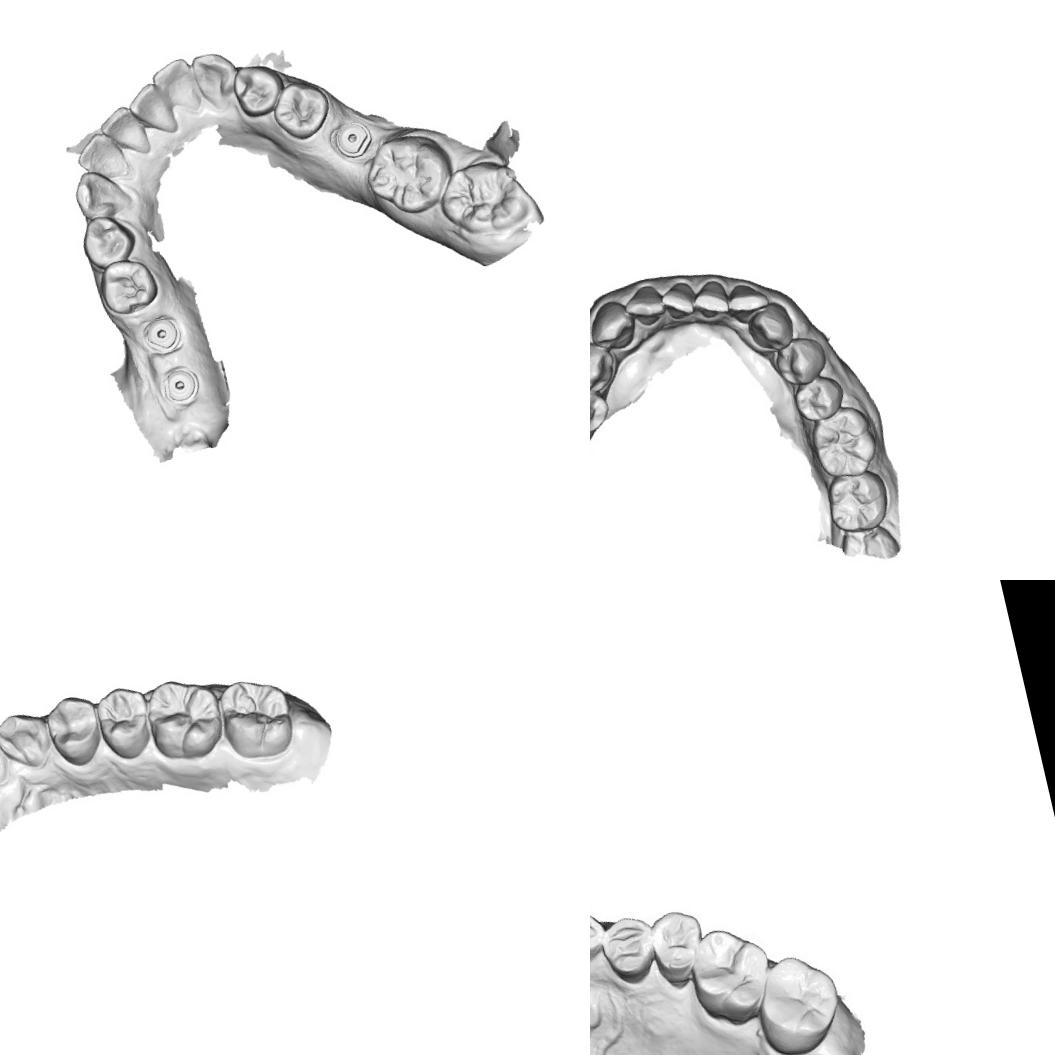canine: (68, 162, 137, 226), (0, 706, 57, 777), (188, 47, 244, 118), (743, 298, 798, 356), (590, 296, 640, 355), (590, 899, 611, 975)
implant: (157, 361, 205, 410), (329, 116, 377, 163), (139, 310, 186, 353)
incisor: (122, 78, 182, 145), (92, 98, 154, 162), (149, 55, 205, 121), (71, 127, 127, 181), (620, 282, 668, 330), (724, 278, 772, 326), (688, 276, 733, 322), (658, 278, 700, 324)
molar: (357, 123, 463, 224), (430, 150, 536, 249), (754, 951, 849, 1054), (686, 924, 776, 1026), (141, 670, 231, 769), (213, 670, 301, 766), (805, 401, 883, 485), (821, 466, 894, 538)
premolar: (640, 902, 708, 987), (264, 72, 339, 148), (92, 681, 158, 764), (42, 690, 108, 771), (595, 908, 659, 987), (92, 252, 164, 320), (75, 207, 141, 274), (225, 57, 290, 122), (770, 332, 832, 390), (790, 373, 849, 426), (590, 335, 620, 398), (590, 378, 614, 439)
